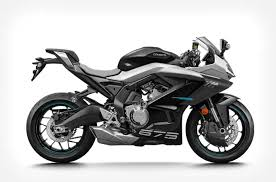motorcycle: (26, 34, 254, 163)
